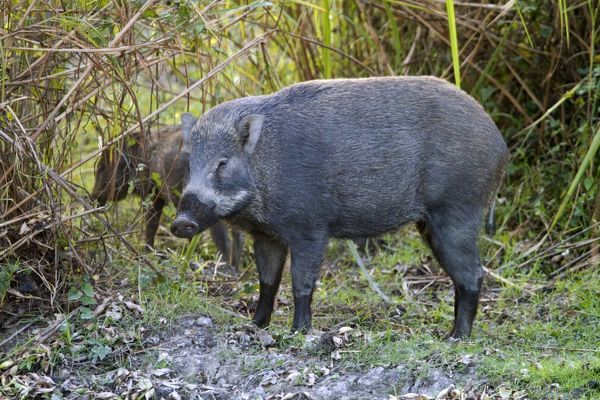wild boar: (163, 72, 516, 348)
